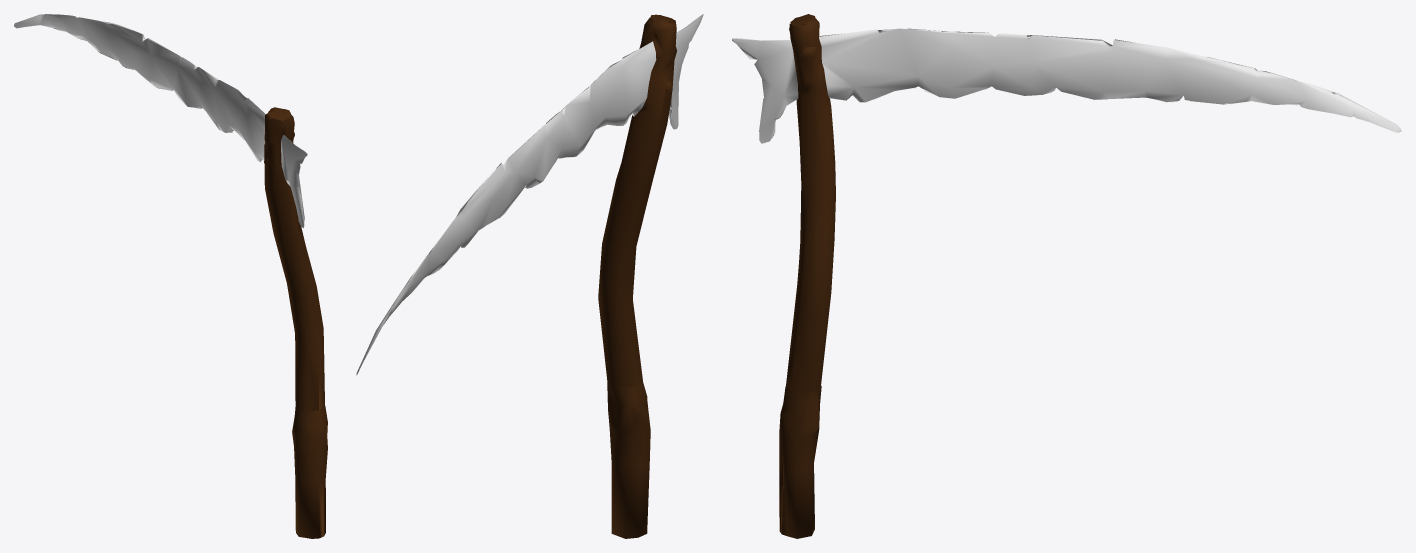
The model's file is scythe.fbx.
The picture shows the model from 3 angles, left to right: view 1: azimuth 30°, elevation 25°; view 2: azimuth 150°, elevation 25°; view 3: azimuth 270°, elevation 25°; orthographic projection. The views are drawn at different scales.
Visible parts, largest first — view 1: Scythe; view 2: Scythe; view 3: Scythe.
Part boxes in pixels (x1,y1,x2,y2): Scythe: (14, 14, 327, 538); Scythe: (356, 14, 703, 538); Scythe: (732, 14, 1401, 538).
Bounding box in the file's own units: 33.41 × 231 × 282.
